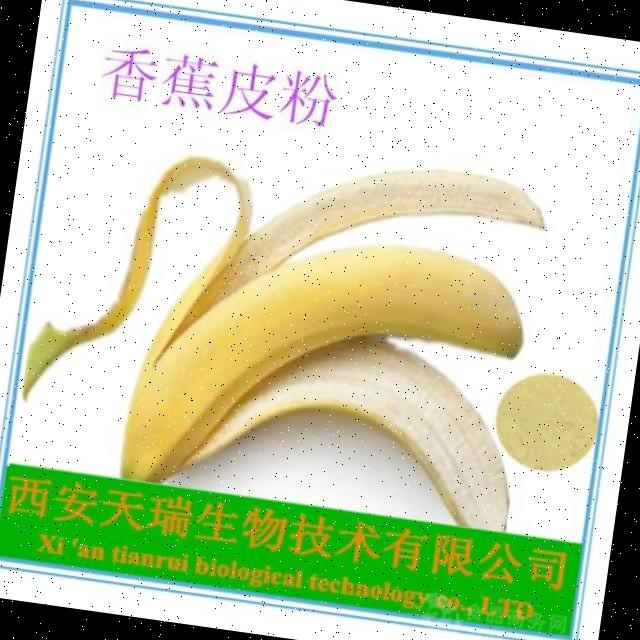banana-peel: (12, 114, 556, 533)
